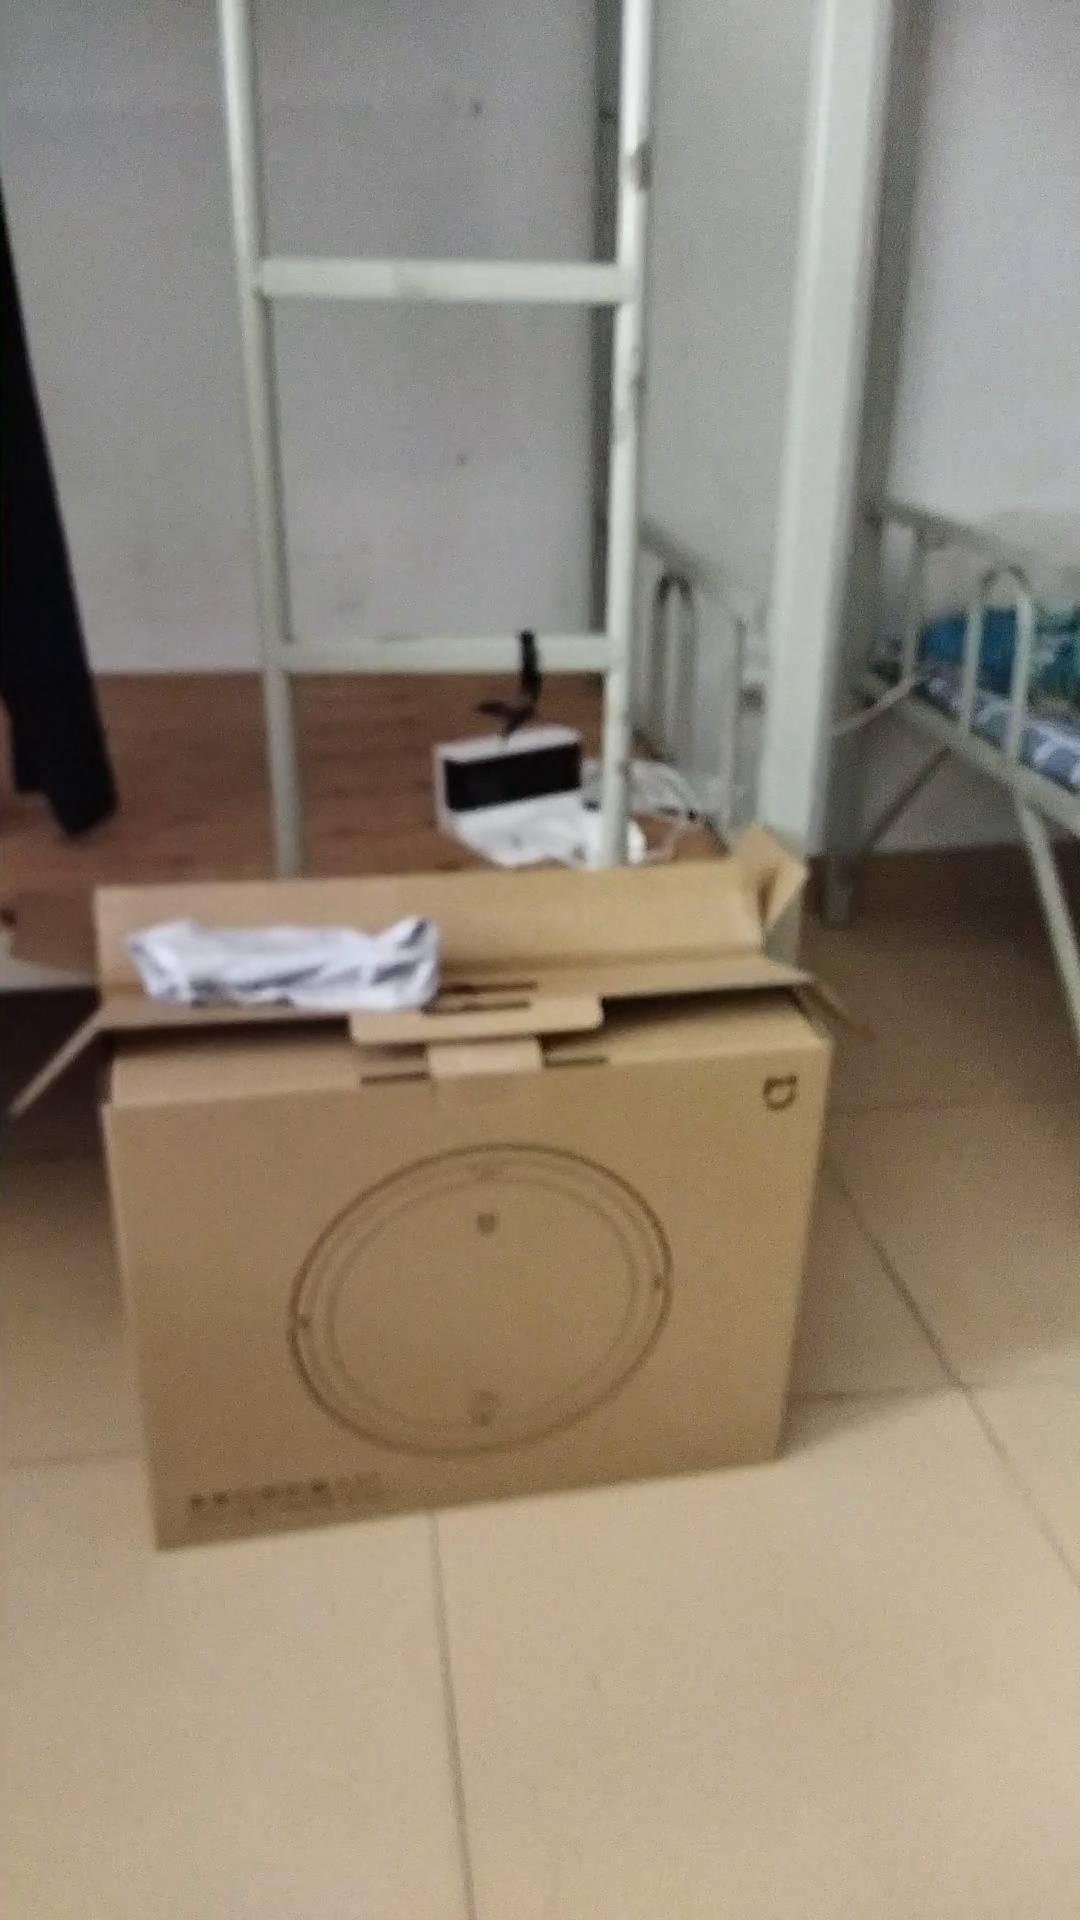recharge seat: (426, 717, 597, 868)
